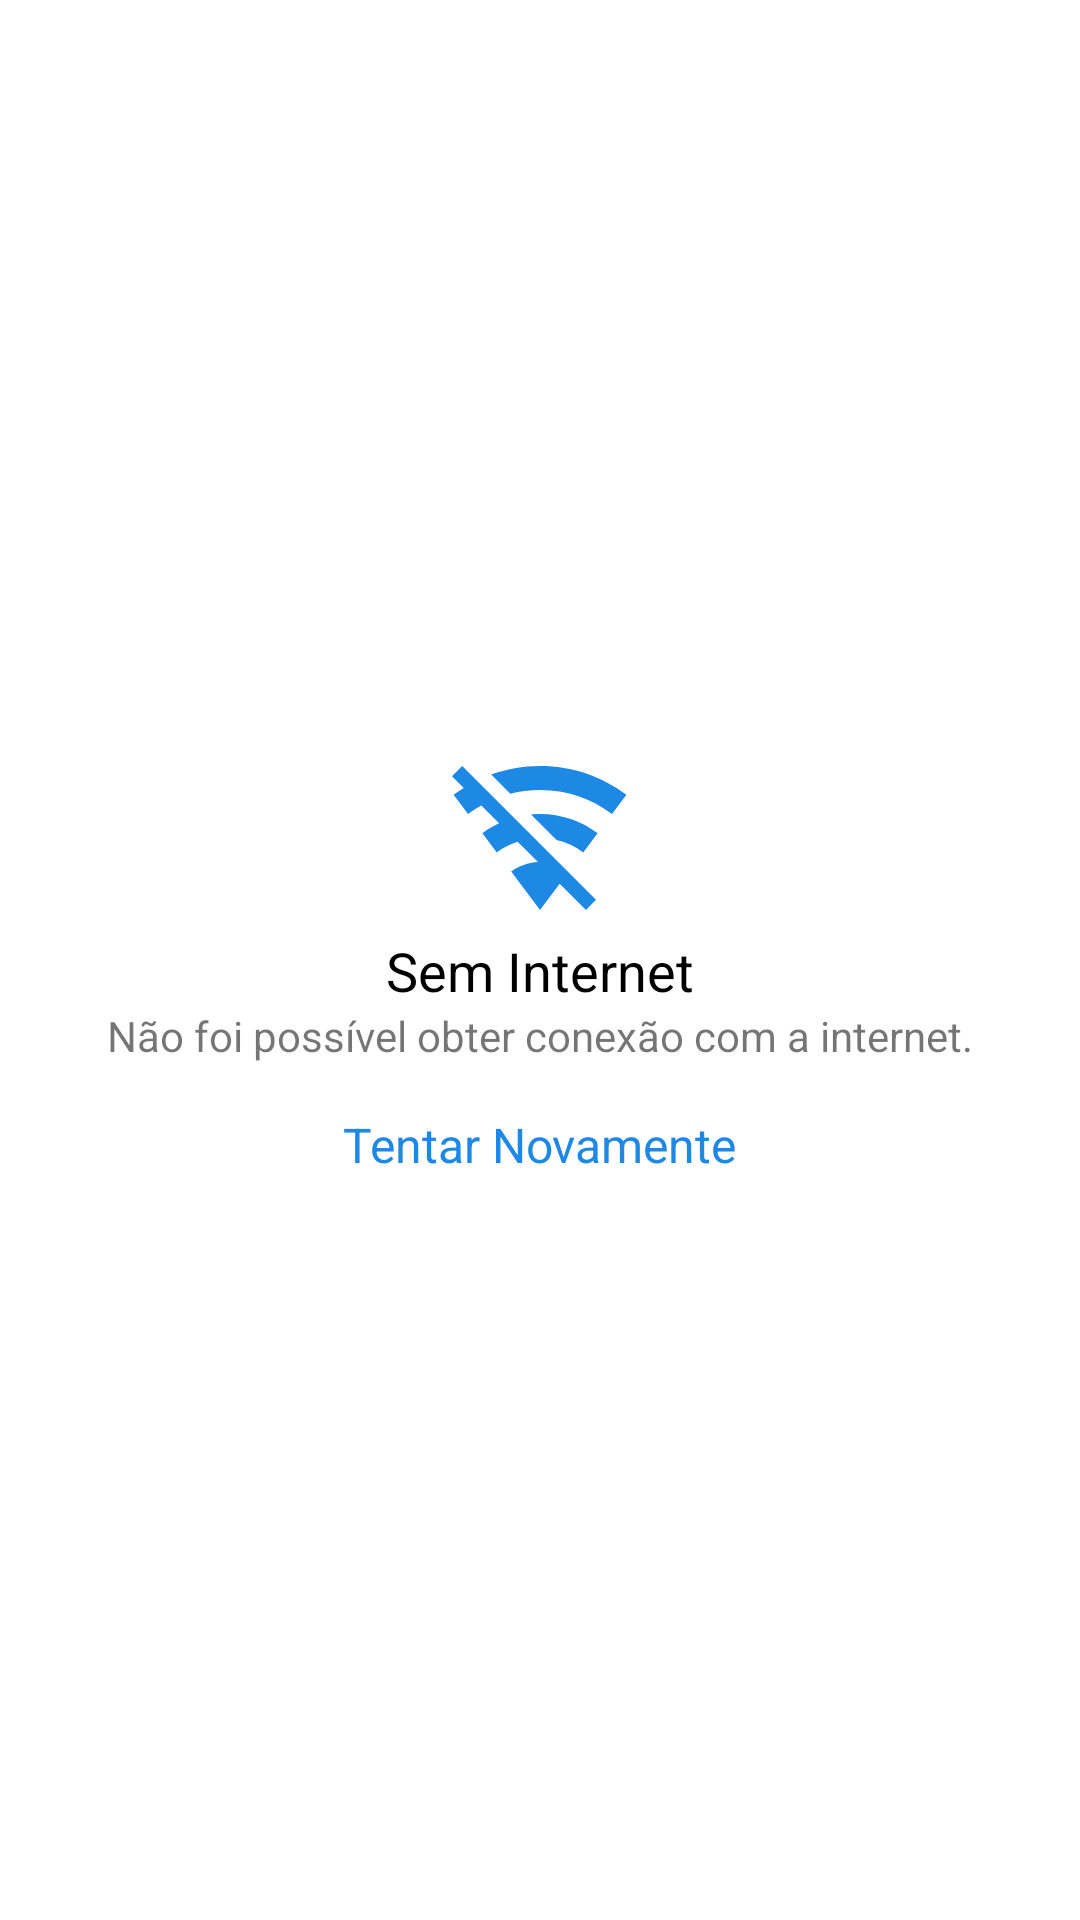

Named icons in this screenshot (1080 x 1920) and their centers, [x,y]:
wifi off: [539,838]
